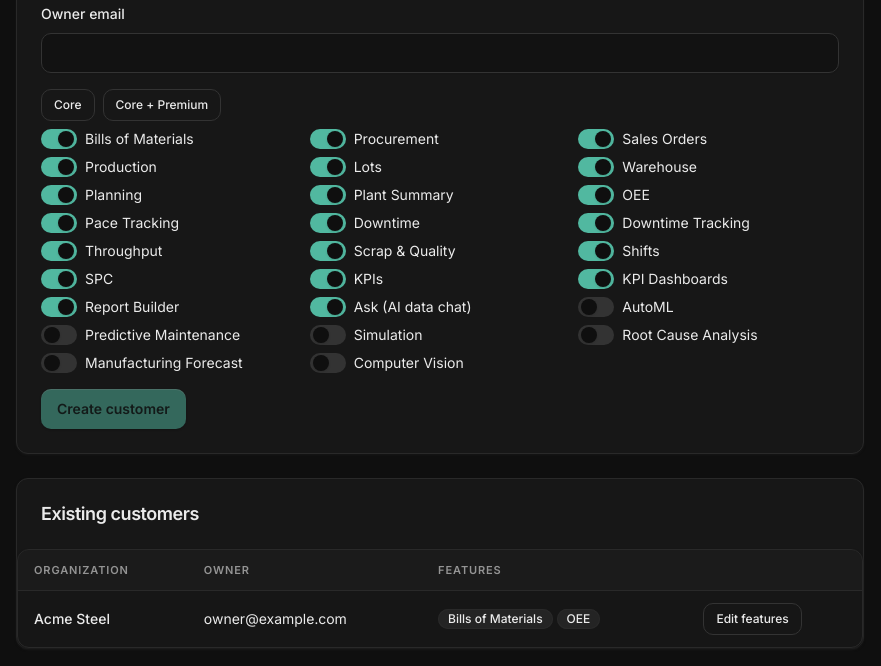
StaffPortal › cancelling an edit sends nothing
(page scrolled)
Click the button "Edit features" at coordinates (753, 618), box [703,602,802,634]
(page scrolled)
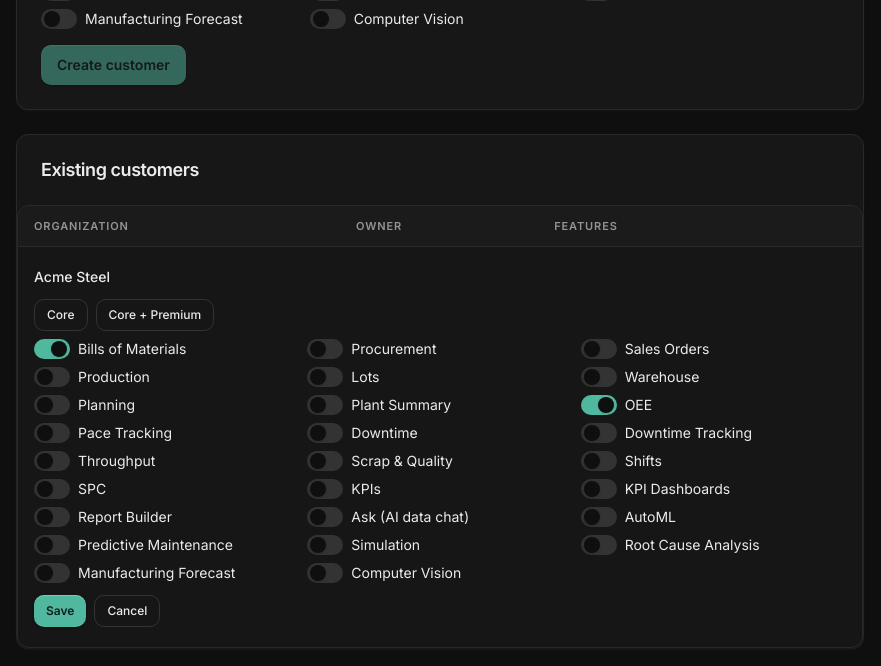
Click the button "Cancel" at coordinates (127, 610), box [94,594,160,626]
(page scrolled)
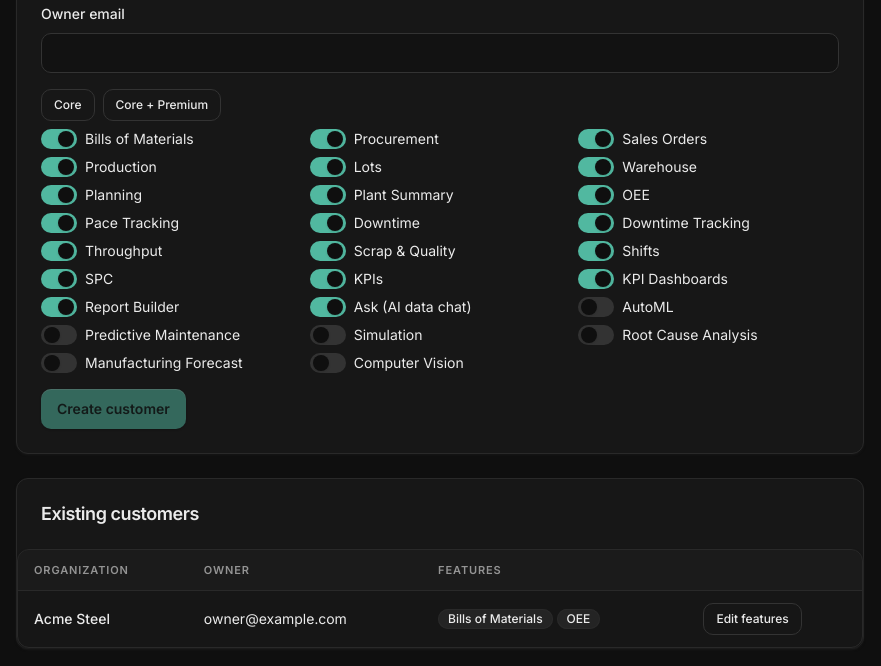
Now the button "Edit features" is shown, box [703,602,802,634]
